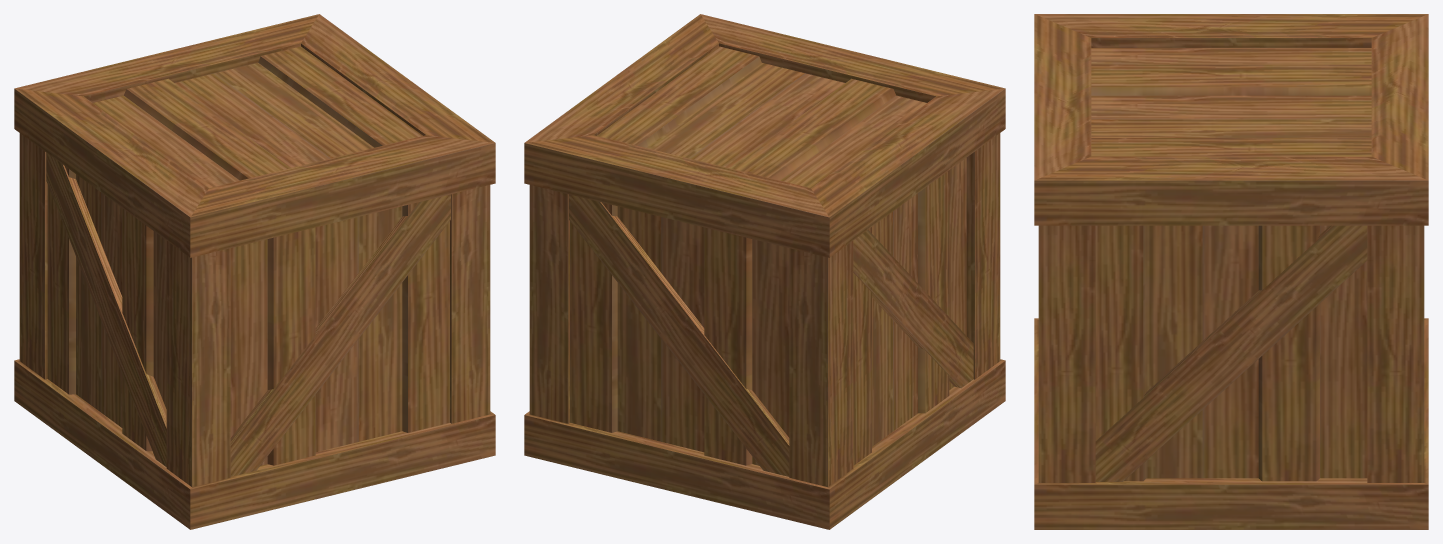
The model's file is Prop_Crate.gltf.
3 renders of one model, left to right at view 1: azimuth 30°, elevation 25°; view 2: azimuth 150°, elevation 25°; view 3: azimuth 270°, elevation 25°, orthographic. The views are drawn at different scales.
Parts seen in each view (by area): view 1: Prop_Crate; view 2: Prop_Crate; view 3: Prop_Crate.
Part boxes in pixels (x1,y1,x2,y2): Prop_Crate: (14,14,495,529); Prop_Crate: (524,14,1005,529); Prop_Crate: (1034,14,1428,529).
Size of the model in its own units: 1.08 by 1.06 by 1.08.
Materials: 1 (1 with a texture image).
